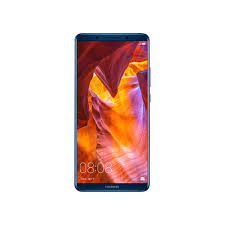huawei: (72, 30, 152, 192)
